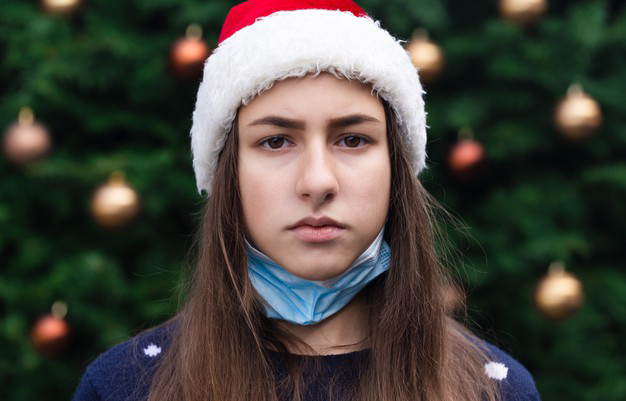mask_weared_incorrect: (234, 125, 391, 297)
